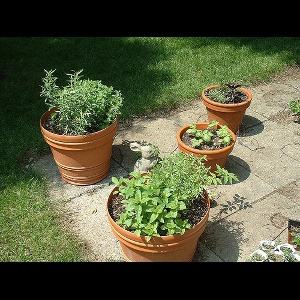flowerpot: (103, 170, 213, 263), (38, 105, 122, 189), (175, 120, 239, 185), (201, 82, 255, 143)
